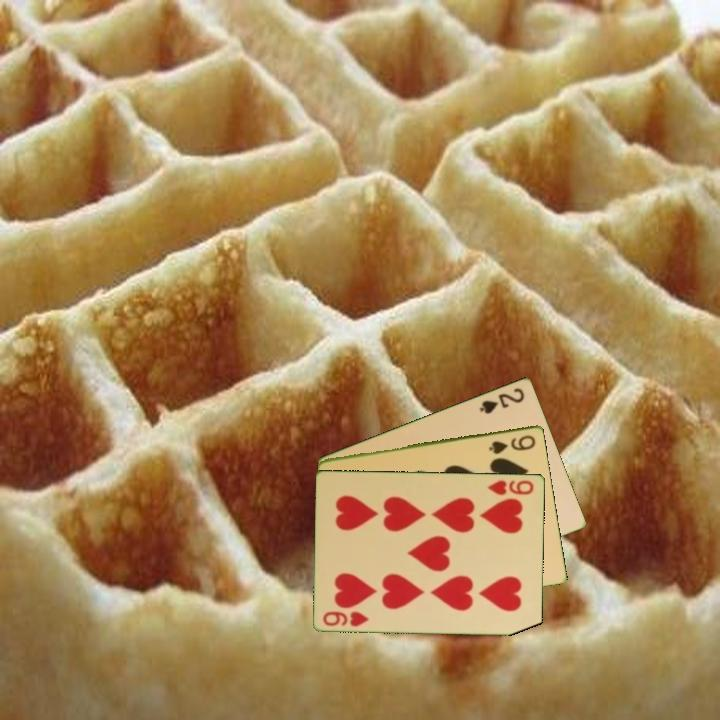2s: (476, 384, 527, 417)
9h: (320, 607, 372, 629), (484, 476, 537, 497)
9s: (485, 431, 539, 457)
